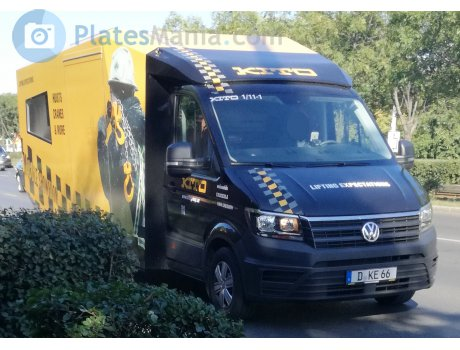License Plates: (355, 267, 396, 277)
